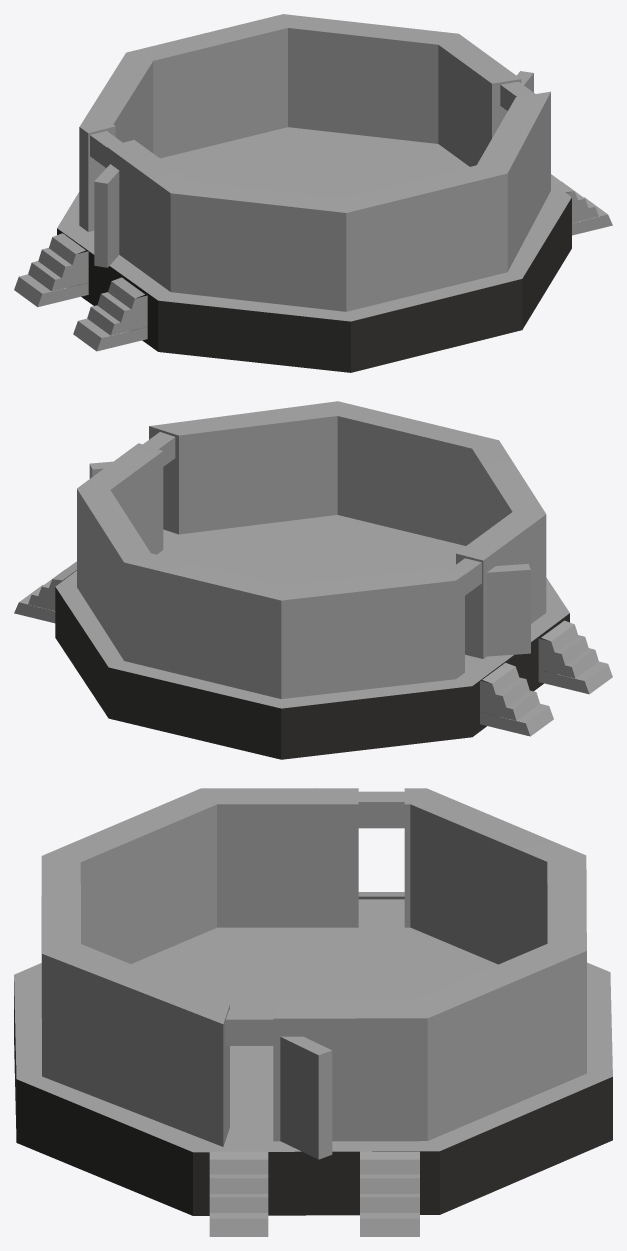
The model's file is Ring_Collider.fbx.
3 views of the same model, one above another, from view 1: azimuth 30°, elevation 25°; view 2: azimuth 150°, elevation 25°; view 3: azimuth 270°, elevation 25° (orthographic). The views are drawn at different scales.
Parts seen in each view (by area): view 1: Ring_Collider; view 2: Ring_Collider; view 3: Ring_Collider.
Part boxes in pixels (box(x1,y1,x2,y2)): Ring_Collider: box(14, 14, 612, 372); Ring_Collider: box(14, 401, 612, 759); Ring_Collider: box(14, 788, 612, 1236).
Size of the model in its own units: 901 by 259 by 729.
